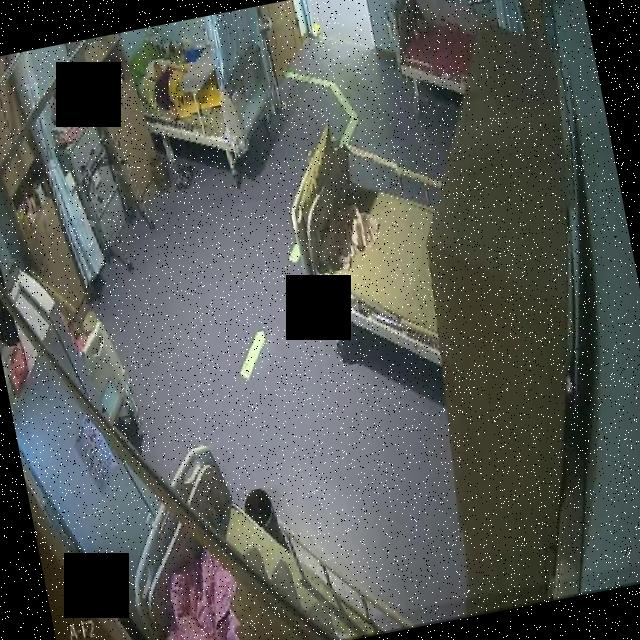bed: (106, 417, 384, 640), (276, 127, 444, 392), (138, 41, 288, 200), (380, 0, 470, 119)
